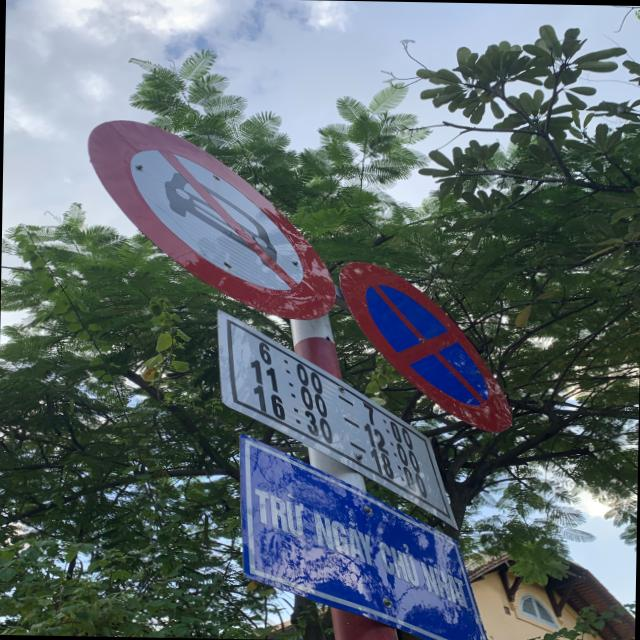Cam_Dung_Va_Dau_Xe: (337, 260, 518, 433)
Cam_O_To: (81, 117, 338, 320)
